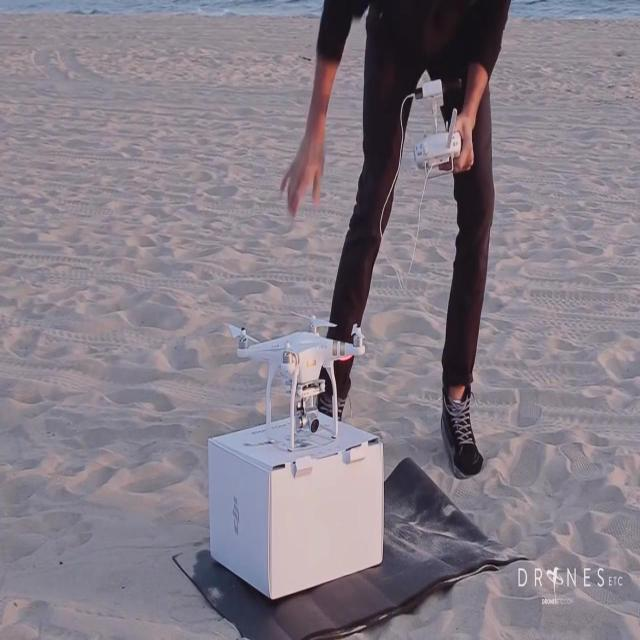drone: (221, 308, 369, 453)
